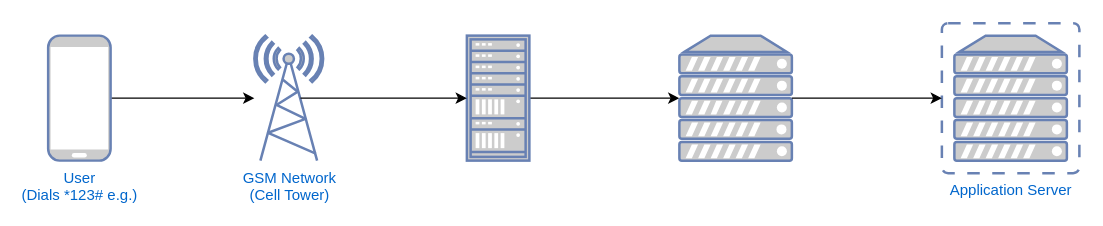
Some shapes in this 1103 by 226 pixel diagram are drawn without their labels. Each missing label, with the centre of its shape:
"Mobile Switching Center (MSC)" belongs at (x=497, y=97).
"USSD Gateway" belongs at (x=735, y=97).
